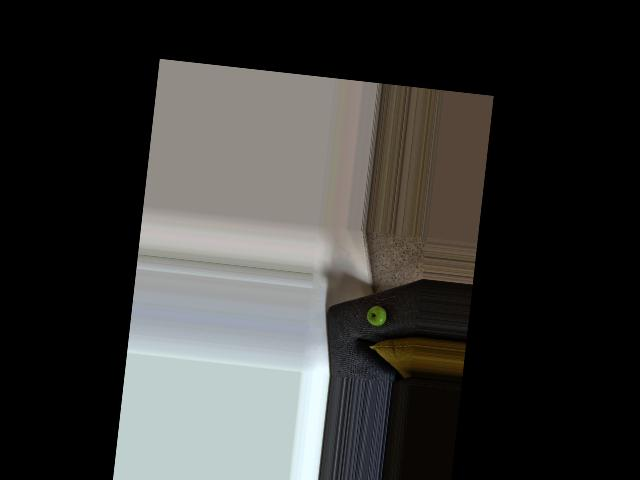apple: (365, 304, 389, 328)
